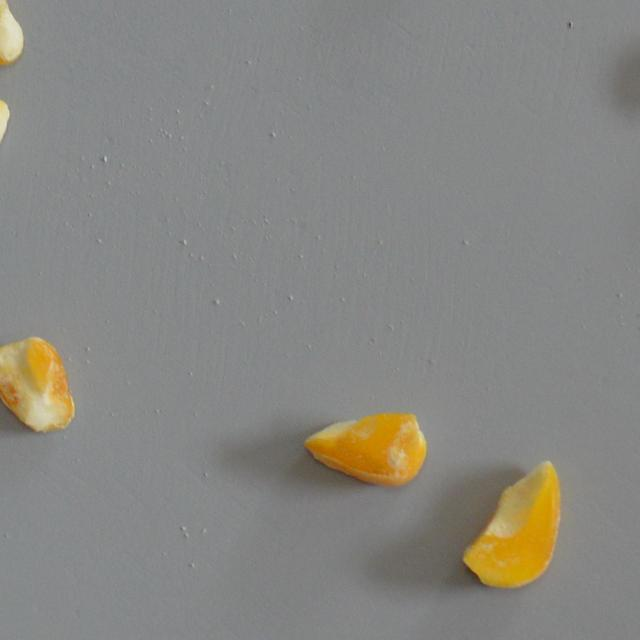estandar: (460, 457, 562, 588)
pelicula: (326, 380, 407, 502), (0, 330, 74, 437), (0, 0, 22, 72)
